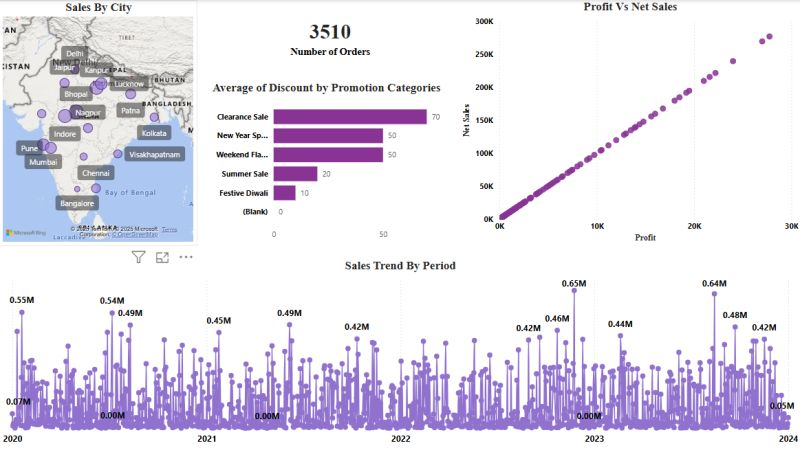

Layout of this report page (visuals, bound fields, positions):
{"tool":"powerbi","page":{"name":"Overview","canvas":[1280,720],"ordinal":0},"visuals":[{"type":"lineChart","title":"Sales Trend By Period","fields":{"Y":["Sum(Fact Table.Net Sales)"],"Category":["Fact Table.Date (dd/mm/yyyy).Variation.Date Hierarchy.Year"]},"box":[0,413,1280.3,307.4],"z":0},{"type":"scatterChart","title":"Profit Vs Net Sales","fields":{"X":["Fact Table.Profit"],"Y":["Fact Table.Net Sales"]},"box":[734.1,0,546.1,392.5],"z":1000},{"type":"barChart","title":"Average of Discount by Promotion Categories","fields":{"Category":["Dim Promotion.Promotion Name"],"Y":["Avg(Fact Table.Discount Percentage)"]},"box":[328,129,388.3,263.5],"z":2000},{"type":"map","title":"Sales By City","fields":{"Category":["Dim Customers.City"],"Size":["Sum(Fact Table.Net Sales)"]},"box":[0,0,315.6,392.5],"z":3000},{"type":"card","fields":{"Values":["CountNonNull(Fact Table.Order ID)"]},"box":[340.3,0,376,116.6],"z":4000}]}

Visuals, with their boxes in screenshot pixels (x1, y1, x2, y2), scaled from the page's 1280x720 canvas onto the 800x450 screenshot:
"Sales Trend By Period" lineChart: 0,258,799,449
"Profit Vs Net Sales" scatterChart: 459,0,799,245
"Average of Discount by Promotion Categories" barChart: 205,81,448,245
"Sales By City" map: 0,0,197,245
card - CountNonNull(Fact Table.Order ID): 213,0,448,73
